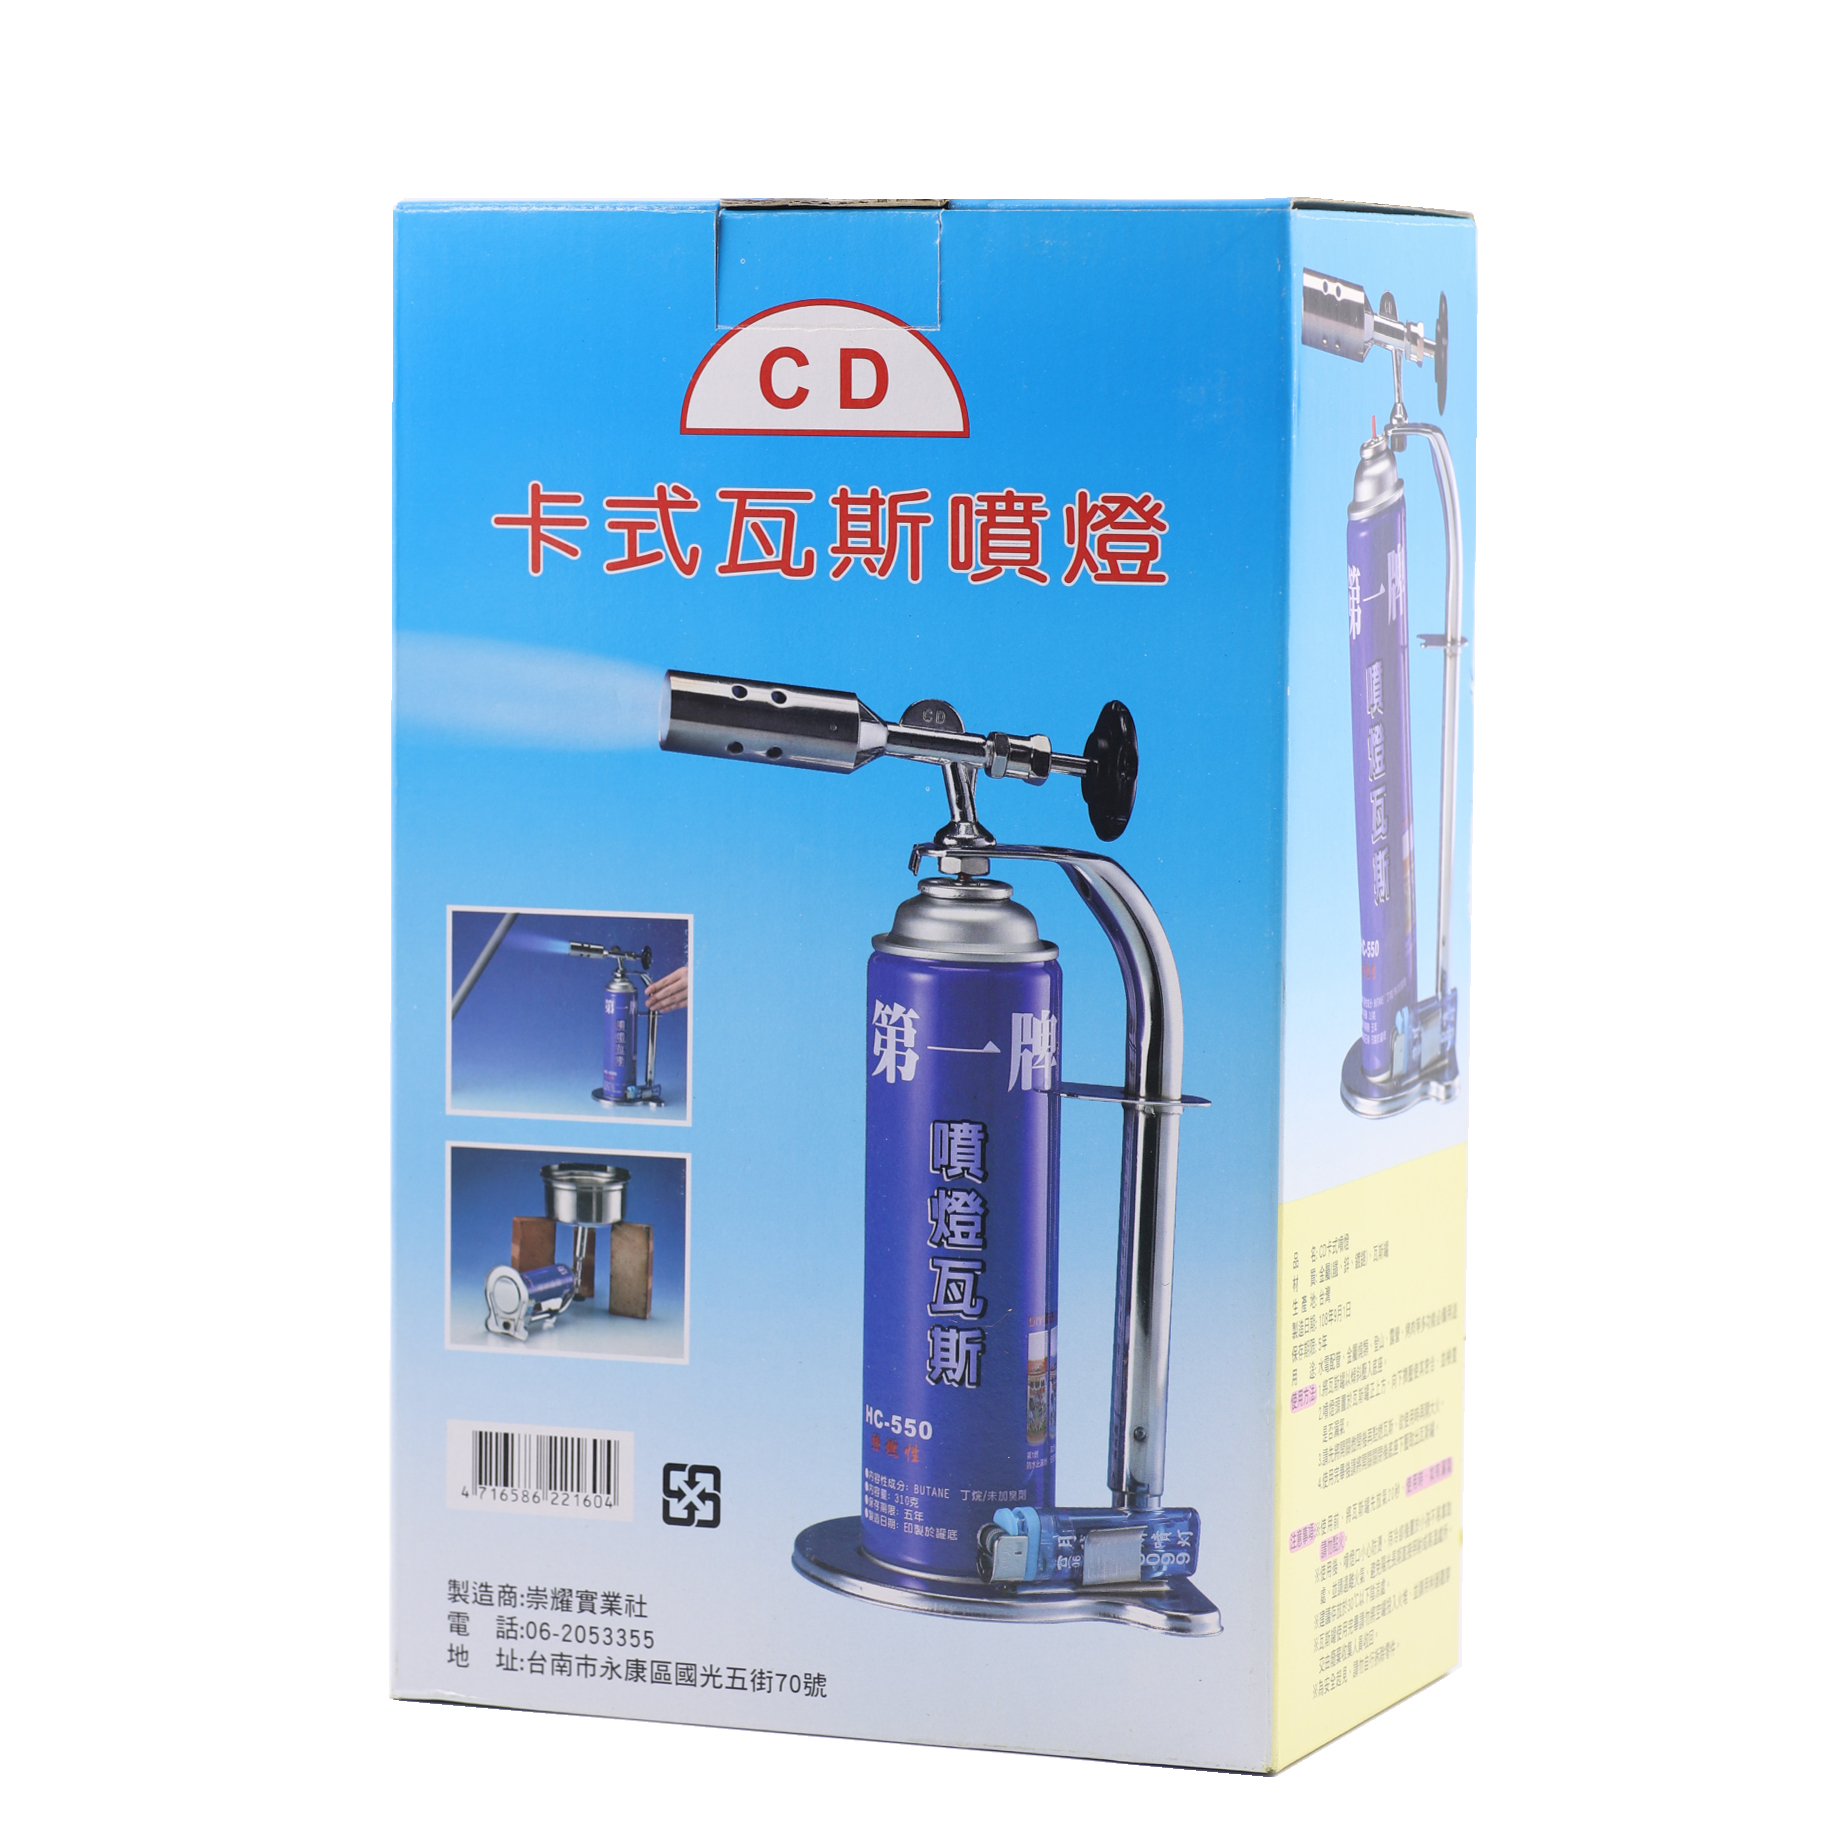gastorch: (634, 646, 1262, 1668)
